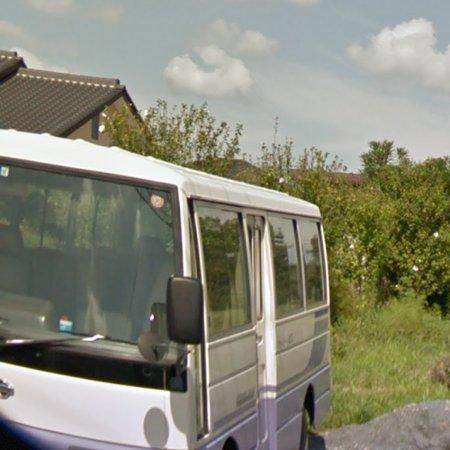buses: (0, 130, 331, 450)
